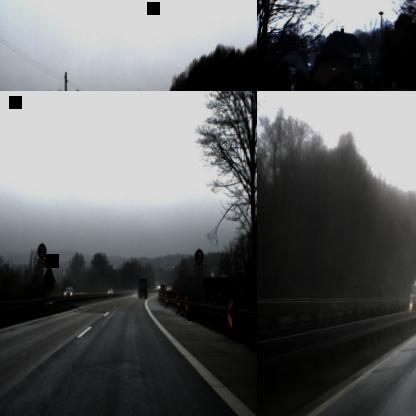no overtaking -trucks-: (36, 242, 46, 258), (194, 248, 203, 264)
